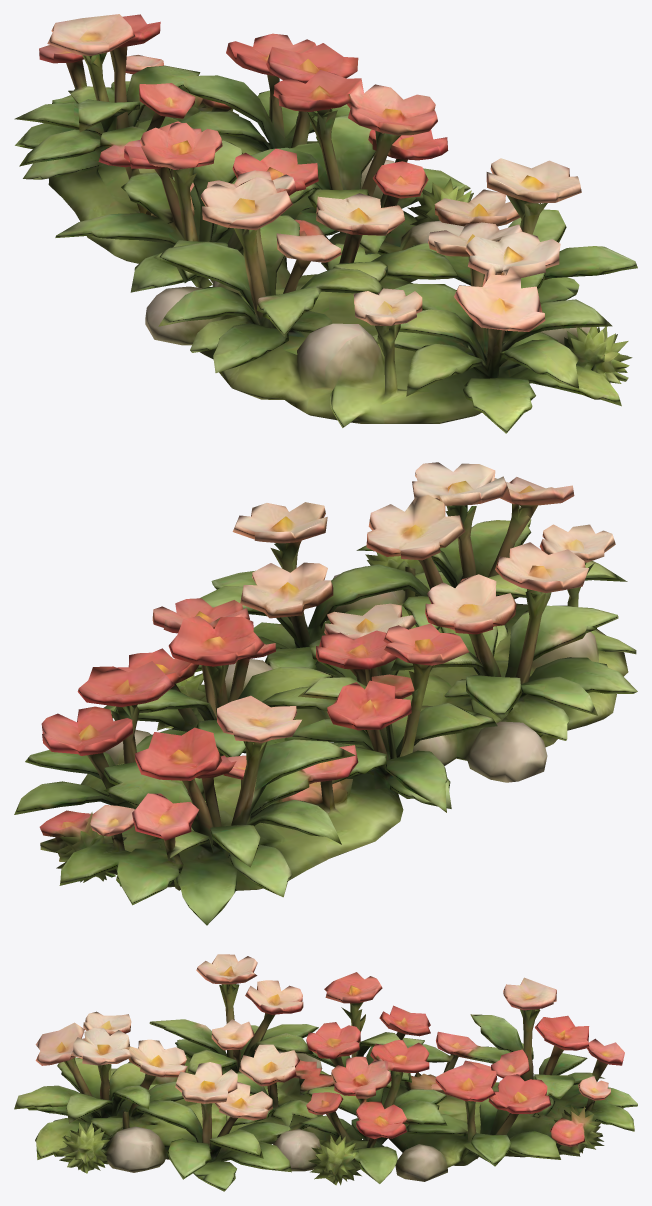
3 renders of one model, top to bottom at view 1: azimuth 30°, elevation 25°; view 2: azimuth 150°, elevation 25°; view 3: azimuth 270°, elevation 25°, orthographic. The views are drawn at different scales.
Visible parts, largest first — view 1: tripo_node_37481a65-07e8-40b7-8c37-ef5844479d4c; view 2: tripo_node_37481a65-07e8-40b7-8c37-ef5844479d4c; view 3: tripo_node_37481a65-07e8-40b7-8c37-ef5844479d4c.
Boxes of the visible parts, box(x1,y1,x2,y2) form: tripo_node_37481a65-07e8-40b7-8c37-ef5844479d4c: box(14, 14, 637, 433); tripo_node_37481a65-07e8-40b7-8c37-ef5844479d4c: box(14, 462, 637, 925); tripo_node_37481a65-07e8-40b7-8c37-ef5844479d4c: box(14, 954, 637, 1191).
Size of the model in its own units: 0.5503 by 0.2157 by 1.
Materials: 1 (1 with a texture image).
